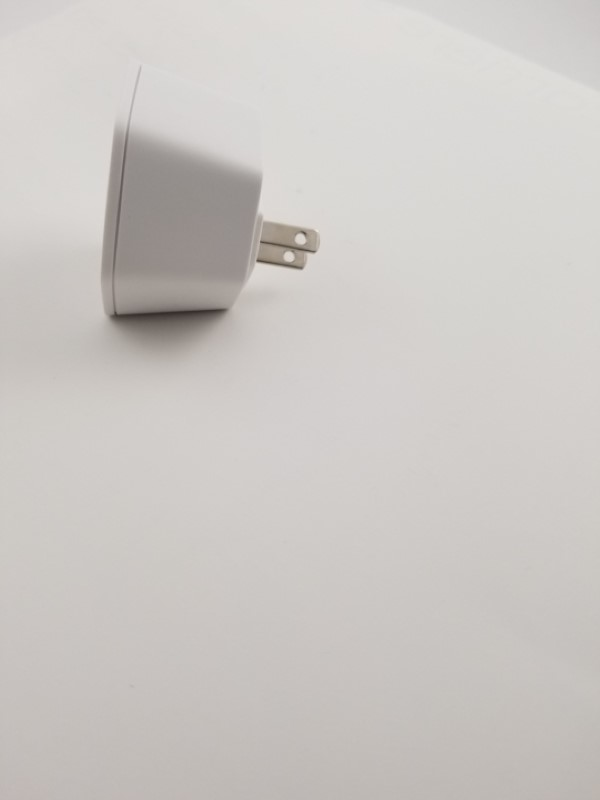pod: (97, 56, 331, 323)
